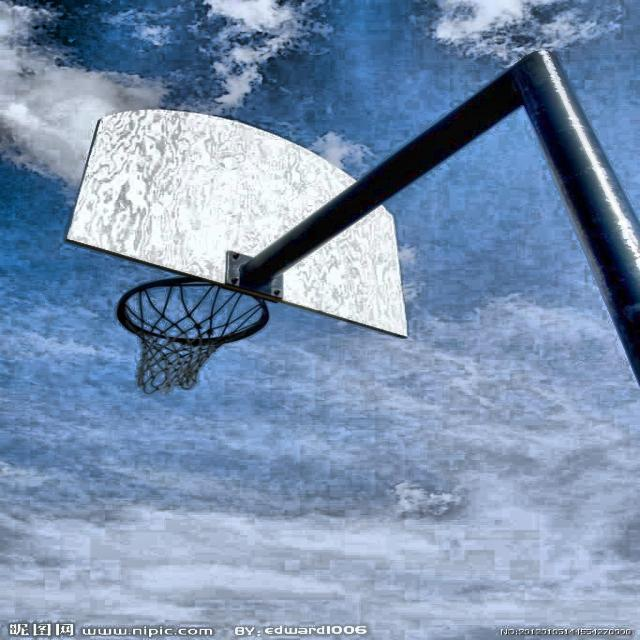rim: (115, 278, 268, 397)
